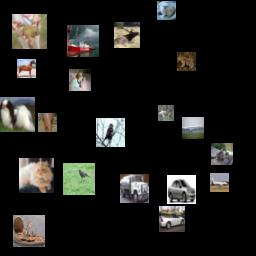airplane: (182, 117, 204, 139), (210, 173, 229, 192)
automobile: (167, 175, 196, 204), (159, 206, 185, 232)
bird: (63, 163, 95, 195), (96, 118, 125, 147)
cat: (19, 158, 54, 193), (211, 143, 233, 165), (158, 105, 174, 121)
deer: (114, 22, 140, 48)
dog: (0, 97, 35, 132), (69, 69, 91, 91), (157, 1, 176, 20)
frog: (12, 14, 47, 49), (177, 52, 196, 71)
ship: (67, 25, 99, 57), (13, 215, 45, 247)
truck: (120, 174, 149, 203)
